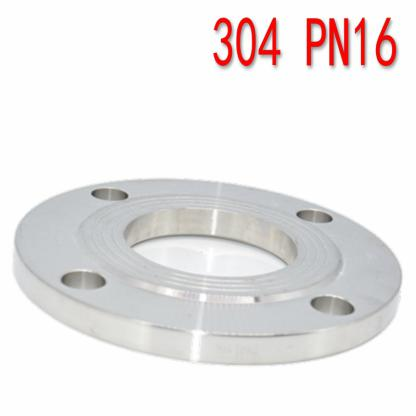FOD: (13, 173, 411, 369)
